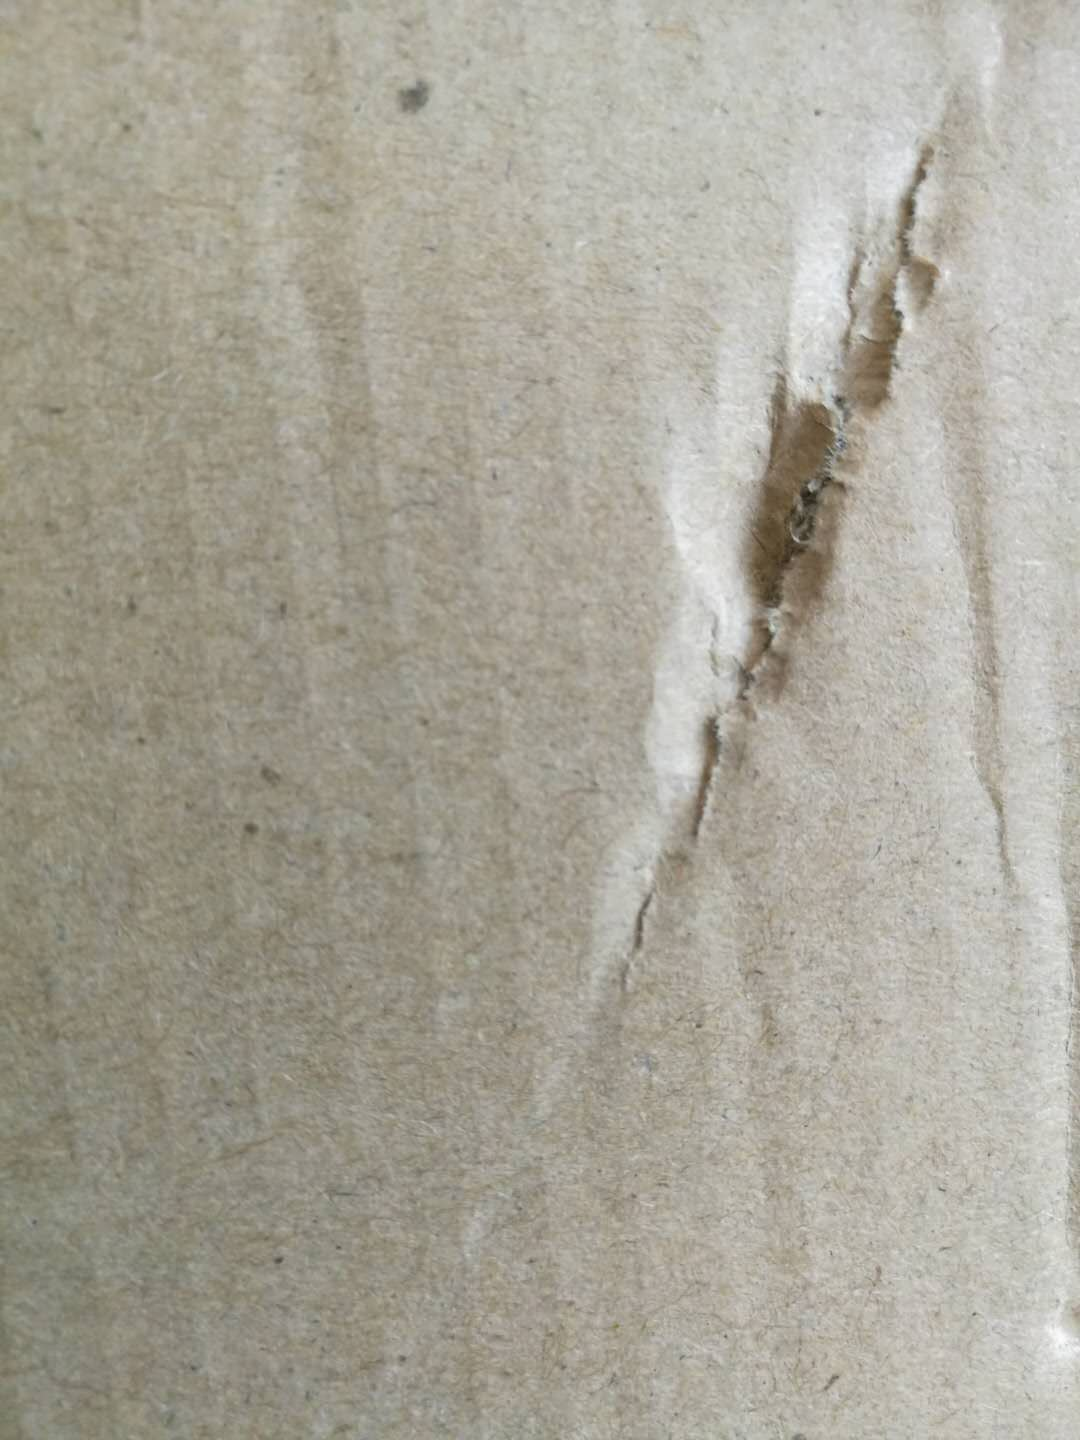defect: (366, 27, 1080, 1380)
